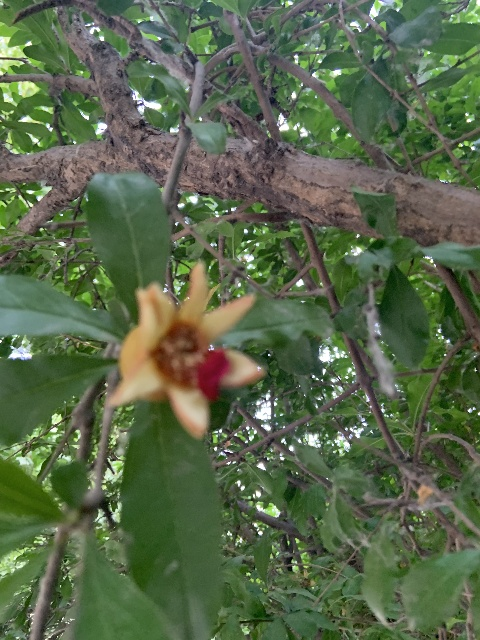early-fruit: (105, 260, 266, 440)
